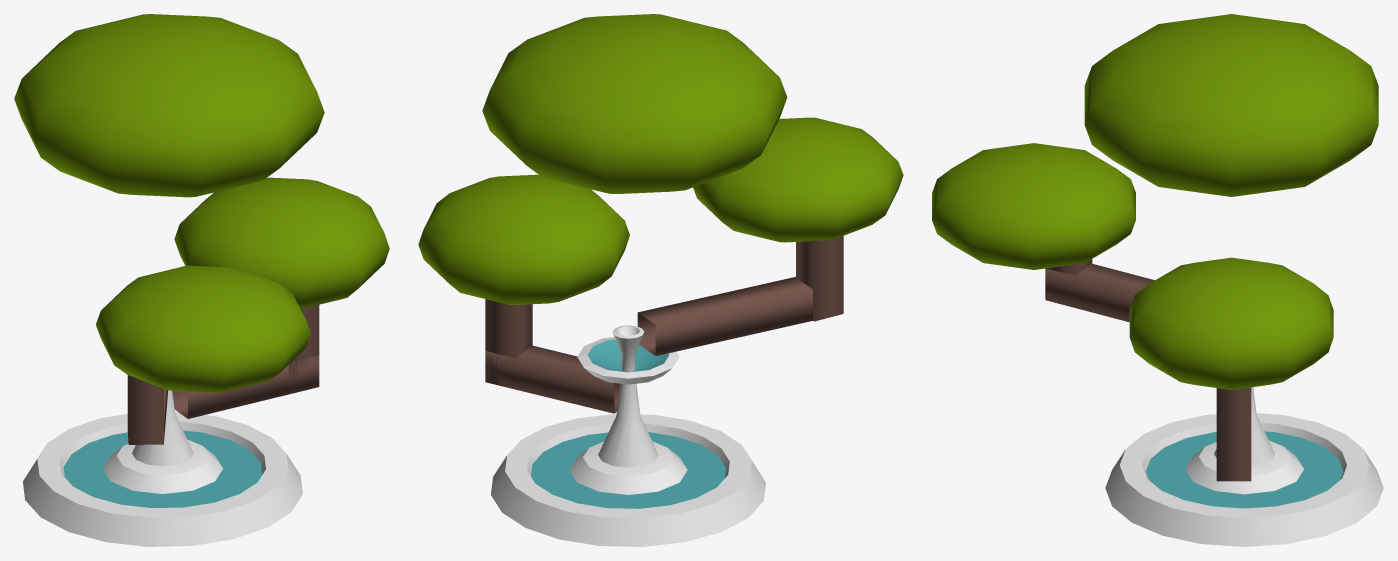
The model's file is big_tree.fbx.
3 views of the same model, side by side, from view 1: azimuth 30°, elevation 25°; view 2: azimuth 150°, elevation 25°; view 3: azimuth 270°, elevation 25° (orthographic).
Visible parts, largest first — view 1: pSphere46, pCylinder7, pSphere48, pSphere47, pCylinder8, pCube155, pCube158, pCylinder13, pCube156; view 2: pSphere46, pCylinder7, pSphere47, pSphere48, pCube157, pCube155, pCylinder13, pCylinder8, pCube158, pCube156, pCylinder14; view 3: pSphere46, pCylinder7, pSphere47, pSphere48, pCube157, pCube156, pCylinder8, pCylinder13.
Boxes of the visible parts, bbox=[...] form: pSphere46: bbox=[14, 14, 324, 197]; pCylinder7: bbox=[23, 411, 302, 546]; pSphere48: bbox=[96, 265, 310, 392]; pSphere47: bbox=[174, 177, 389, 308]; pCylinder8: bbox=[102, 439, 222, 493]; pCube155: bbox=[172, 355, 319, 418]; pCube158: bbox=[127, 375, 163, 444]; pCylinder13: bbox=[132, 390, 193, 466]; pCube156: bbox=[288, 305, 319, 393]; pSphere46: bbox=[482, 14, 787, 193]; pCylinder7: bbox=[491, 414, 765, 546]; pSphere47: bbox=[418, 174, 629, 304]; pSphere48: bbox=[693, 117, 903, 242]; pCube157: bbox=[637, 277, 812, 355]; pCube155: bbox=[485, 345, 620, 413]; pCylinder13: bbox=[598, 325, 658, 467]; pCylinder8: bbox=[569, 441, 687, 494]; pCube158: bbox=[796, 236, 843, 321]; pCube156: bbox=[485, 299, 532, 388]; pCylinder14: bbox=[577, 337, 679, 384]; pSphere46: bbox=[1084, 14, 1378, 196]; pCylinder7: bbox=[1105, 413, 1383, 546]; pSphere47: bbox=[1129, 257, 1333, 389]; pSphere48: bbox=[932, 143, 1135, 269]; pCube157: bbox=[1045, 263, 1154, 322]; pCube156: bbox=[1216, 387, 1251, 481]; pCylinder8: bbox=[1185, 440, 1303, 494]; pCylinder13: bbox=[1214, 387, 1274, 465].
Size of the model in its own units: 5.43 by 6.42 by 5.86.
